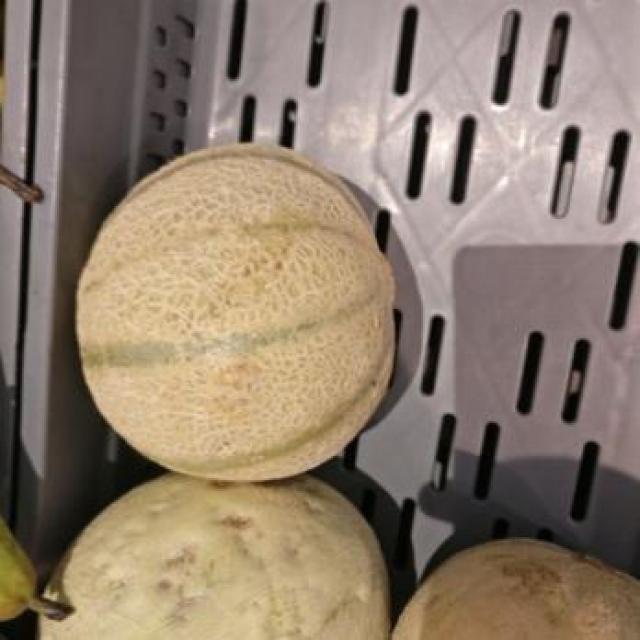Cantaloupe: (74, 142, 408, 482), (35, 473, 394, 638), (394, 539, 638, 638)
